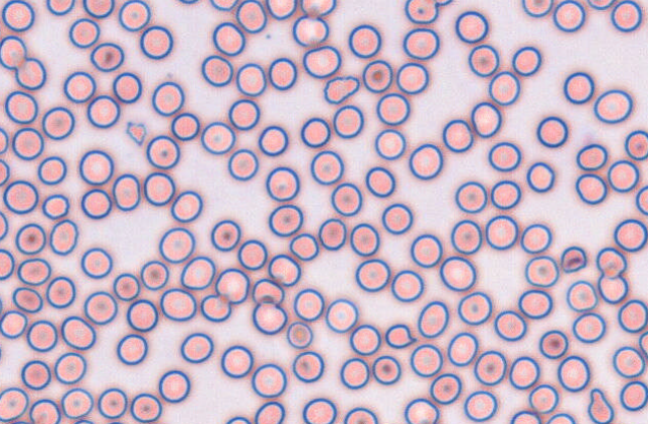RBC: (593, 89, 633, 123), (158, 227, 195, 263), (439, 255, 476, 291), (302, 45, 341, 78), (251, 363, 287, 398), (60, 315, 96, 350), (78, 149, 113, 185), (408, 143, 443, 179), (215, 267, 249, 304), (159, 287, 196, 321), (3, 179, 38, 214), (354, 258, 390, 292), (557, 355, 590, 392), (402, 27, 439, 60), (180, 255, 215, 289), (457, 291, 492, 325), (146, 134, 180, 169), (265, 166, 299, 201), (310, 150, 344, 185), (485, 214, 518, 250), (292, 14, 329, 46), (417, 300, 448, 338), (83, 291, 117, 325), (409, 343, 443, 377), (613, 218, 647, 252), (139, 25, 173, 59), (86, 94, 120, 128), (41, 106, 75, 140), (473, 350, 506, 385), (212, 21, 245, 56), (200, 121, 235, 154), (151, 81, 184, 116), (348, 23, 381, 58), (251, 302, 287, 334), (267, 253, 301, 286), (4, 90, 38, 123), (325, 298, 358, 332), (376, 92, 410, 125), (488, 70, 520, 105), (268, 204, 303, 236), (524, 255, 559, 287), (143, 171, 175, 206), (450, 219, 482, 254), (470, 101, 501, 137), (612, 345, 645, 378), (220, 345, 253, 378), (391, 269, 424, 302), (454, 180, 487, 213), (455, 10, 488, 43), (158, 369, 190, 403), (126, 298, 158, 332), (332, 104, 364, 138), (410, 233, 442, 267), (330, 182, 362, 216), (447, 331, 478, 366), (112, 173, 140, 211), (508, 356, 540, 389), (63, 71, 96, 103), (12, 127, 44, 160), (552, 0, 585, 32), (607, 159, 639, 192), (396, 62, 429, 94), (467, 44, 499, 77), (463, 390, 497, 421), (572, 312, 606, 343), (235, 62, 266, 96), (442, 118, 473, 152), (49, 219, 78, 255), (429, 372, 461, 404), (292, 350, 324, 382), (54, 352, 86, 384), (566, 280, 598, 312), (116, 333, 148, 365), (201, 54, 233, 86), (610, 0, 642, 32), (170, 190, 202, 222), (228, 98, 260, 130), (381, 202, 413, 234), (374, 128, 406, 160), (536, 115, 568, 147), (15, 57, 46, 90), (1, 0, 34, 31), (26, 319, 57, 352), (60, 387, 93, 418), (118, 0, 151, 31), (493, 310, 526, 341), (235, 0, 266, 33), (293, 288, 324, 321), (45, 275, 76, 308), (180, 332, 213, 363), (563, 71, 594, 104), (617, 299, 647, 333), (518, 289, 552, 319), (362, 59, 392, 93), (349, 222, 379, 256), (0, 386, 29, 421), (595, 246, 627, 277), (68, 17, 100, 48), (349, 324, 381, 355), (80, 188, 112, 219), (80, 247, 112, 278), (575, 173, 607, 204), (227, 148, 258, 180), (210, 219, 241, 251), (488, 141, 521, 171), (90, 42, 124, 71), (597, 273, 628, 304), (20, 359, 51, 390), (15, 223, 46, 254), (257, 125, 288, 156), (130, 392, 162, 422), (97, 387, 127, 419), (339, 357, 369, 389), (112, 71, 142, 103), (520, 223, 552, 253), (268, 57, 297, 90), (17, 257, 51, 285), (403, 397, 439, 423), (528, 383, 559, 413), (237, 239, 267, 270), (490, 179, 521, 209), (365, 166, 395, 197), (511, 45, 541, 76), (318, 217, 346, 250), (0, 35, 27, 69), (538, 329, 568, 359), (300, 117, 330, 147), (288, 232, 319, 261), (526, 161, 555, 192), (302, 397, 336, 423), (140, 260, 169, 290), (371, 355, 401, 384), (37, 155, 66, 185), (200, 294, 231, 322), (619, 380, 647, 411), (11, 286, 43, 313), (170, 112, 200, 140), (576, 143, 607, 170), (112, 272, 140, 300), (0, 309, 27, 338), (404, 0, 438, 23), (29, 398, 60, 423), (624, 129, 647, 160), (286, 321, 312, 348), (42, 193, 69, 219), (254, 401, 285, 423), (300, 0, 336, 17), (343, 406, 378, 423), (265, 0, 296, 19), (82, 0, 114, 18), (521, 0, 553, 17), (0, 248, 14, 280), (46, 0, 74, 15), (510, 410, 541, 423), (635, 185, 647, 215), (545, 412, 575, 423), (209, 0, 238, 11), (586, 0, 615, 10), (0, 158, 10, 186), (638, 330, 647, 357), (0, 210, 8, 240), (0, 126, 8, 154), (225, 415, 251, 423), (433, 0, 453, 6), (72, 419, 95, 424), (176, 0, 200, 4), (8, 420, 30, 424), (105, 420, 126, 424), (0, 294, 3, 317), (0, 342, 3, 365)
Schistocyte: (320, 76, 363, 105), (589, 387, 615, 424), (254, 278, 286, 305), (385, 324, 419, 348), (561, 244, 587, 272), (126, 121, 147, 147)
